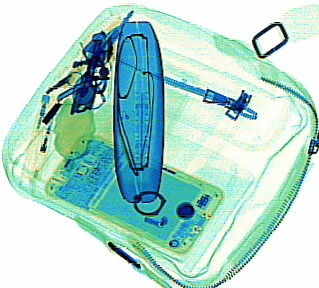lighter: (19, 94, 58, 180)
